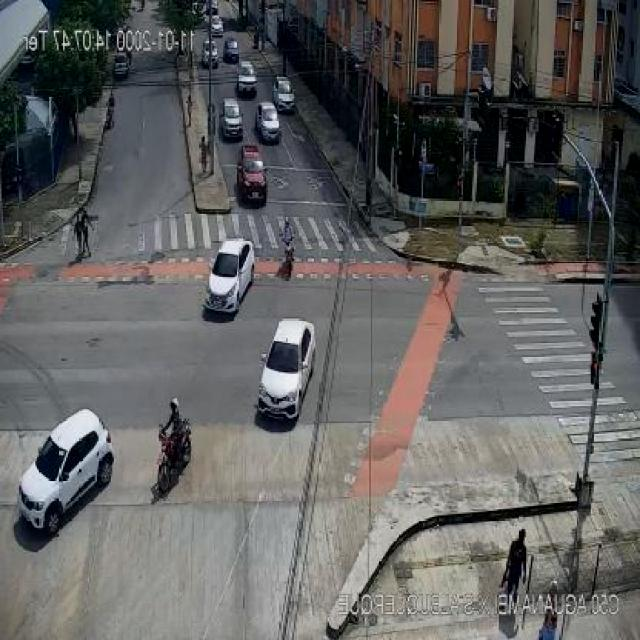Car: (13, 405, 119, 533), (254, 315, 320, 422), (203, 239, 256, 314), (235, 144, 270, 205), (255, 102, 281, 142), (219, 96, 243, 139), (271, 76, 296, 110), (234, 60, 257, 92), (202, 40, 220, 69), (222, 36, 240, 64), (208, 15, 225, 38)
Cycle: (153, 394, 195, 491), (278, 217, 300, 272)
